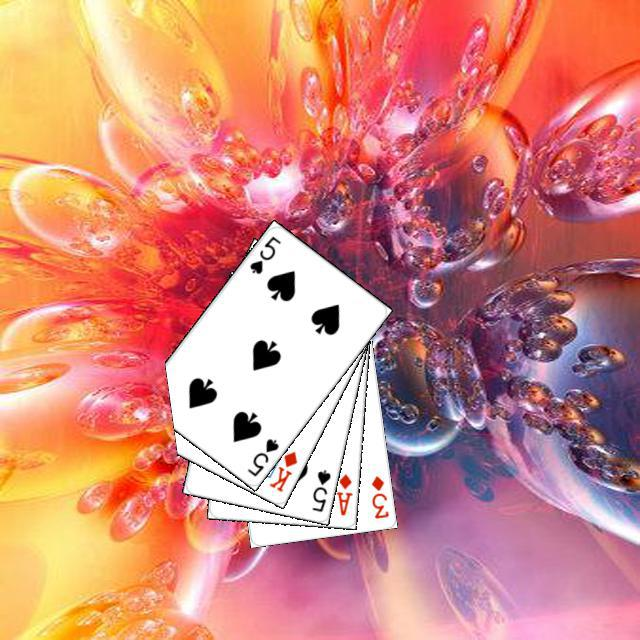3d: (367, 471, 390, 520)
5s: (242, 433, 280, 478), (245, 231, 283, 276), (307, 465, 332, 514)
Ad: (331, 469, 354, 517)
Kd: (264, 446, 299, 494)
